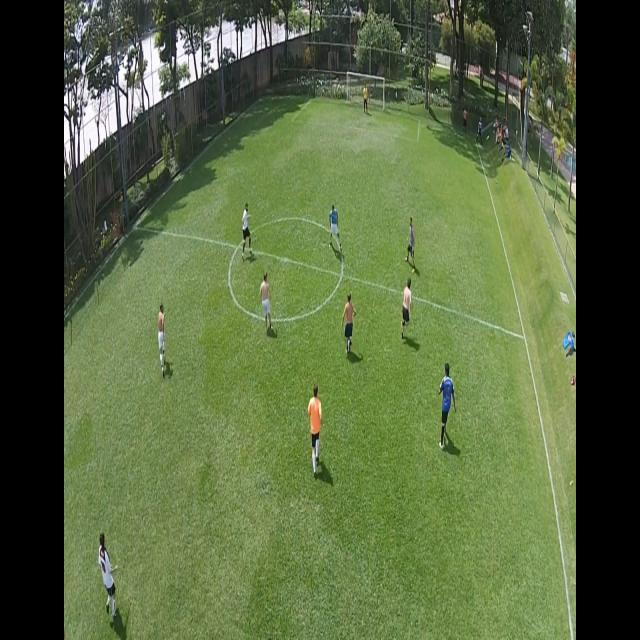humans: (435, 353, 458, 455), (97, 526, 119, 630), (304, 378, 324, 479), (398, 271, 417, 351), (326, 194, 347, 260), (340, 285, 358, 358), (155, 298, 169, 383), (258, 265, 274, 338), (239, 196, 255, 263), (406, 211, 418, 269), (360, 77, 370, 116), (476, 110, 485, 147)
